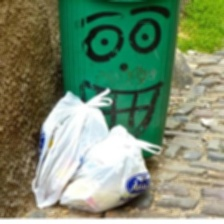plastic_bag: (26, 82, 118, 211), (51, 123, 167, 213)
